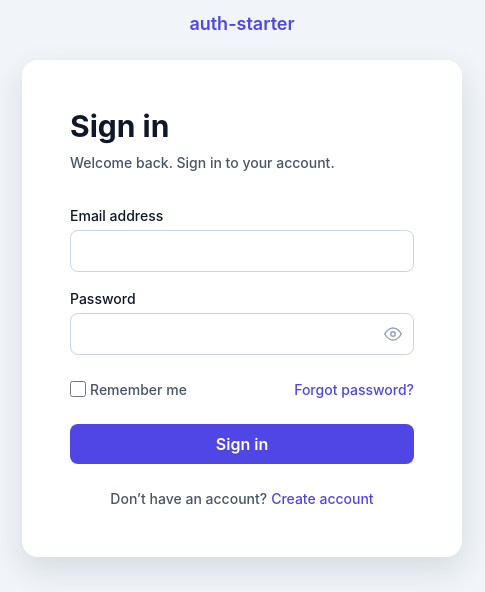
Test: LoginPage › Password visibility toggle › shows "Hide password" label when password is visible
Click the button named "show password" at (393, 334), box [380, 320, 406, 346]
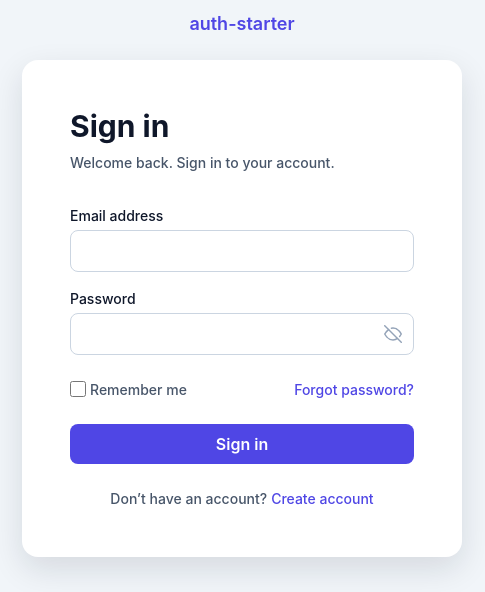
expect the button named "hide password" is shown: met, box [380, 320, 406, 346]
